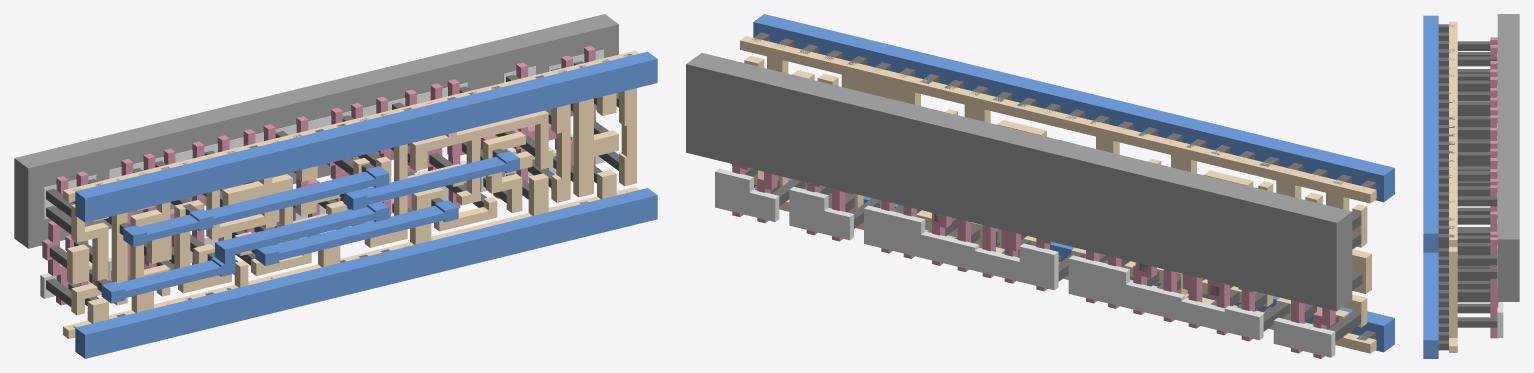
Rendered from sky130_fd_sc_hd__dfbbn_1.gds.gltf.
3 views of the same model, side by side, from view 1: azimuth 30°, elevation 25°; view 2: azimuth 150°, elevation 25°; view 3: azimuth 270°, elevation 25° (orthographic). The views are drawn at different scales.
Visible parts, largest first — view 1: sky130_fd_sc_hd__dfbbn_1_met1, sky130_fd_sc_hd__dfbbn_1_li1, sky130_fd_sc_hd__dfbbn_1_nwell, sky130_fd_sc_hd__dfbbn_1_poly, sky130_fd_sc_hd__dfbbn_1_licon, sky130_fd_sc_hd__dfbbn_1_diff, sky130_fd_sc_hd__dfbbn_1_mcon; view 2: sky130_fd_sc_hd__dfbbn_1_nwell, sky130_fd_sc_hd__dfbbn_1_diff, sky130_fd_sc_hd__dfbbn_1_li1, sky130_fd_sc_hd__dfbbn_1_met1, sky130_fd_sc_hd__dfbbn_1_poly, sky130_fd_sc_hd__dfbbn_1_licon, sky130_fd_sc_hd__dfbbn_1_mcon; view 3: sky130_fd_sc_hd__dfbbn_1_licon, sky130_fd_sc_hd__dfbbn_1_nwell, sky130_fd_sc_hd__dfbbn_1_met1, sky130_fd_sc_hd__dfbbn_1_mcon, sky130_fd_sc_hd__dfbbn_1_li1, sky130_fd_sc_hd__dfbbn_1_poly, sky130_fd_sc_hd__dfbbn_1_diff.
Part boxes in pixels (left/top/right/bottom): sky130_fd_sc_hd__dfbbn_1_met1: left=75, top=51, right=657, bottom=358; sky130_fd_sc_hd__dfbbn_1_li1: left=63, top=50, right=639, bottom=338; sky130_fd_sc_hd__dfbbn_1_nwell: left=14, top=14, right=618, bottom=248; sky130_fd_sc_hd__dfbbn_1_poly: left=42, top=46, right=595, bottom=305; sky130_fd_sc_hd__dfbbn_1_licon: left=46, top=61, right=618, bottom=306; sky130_fd_sc_hd__dfbbn_1_diff: left=40, top=49, right=603, bottom=298; sky130_fd_sc_hd__dfbbn_1_mcon: left=72, top=53, right=631, bottom=328; sky130_fd_sc_hd__dfbbn_1_nwell: left=686, top=53, right=1352, bottom=311; sky130_fd_sc_hd__dfbbn_1_diff: left=715, top=168, right=1335, bottom=357; sky130_fd_sc_hd__dfbbn_1_li1: left=740, top=36, right=1376, bottom=353; sky130_fd_sc_hd__dfbbn_1_met1: left=753, top=14, right=1394, bottom=352; sky130_fd_sc_hd__dfbbn_1_poly: left=732, top=164, right=1335, bottom=358; sky130_fd_sc_hd__dfbbn_1_licon: left=745, top=87, right=1362, bottom=341; sky130_fd_sc_hd__dfbbn_1_mcon: left=752, top=32, right=1376, bottom=340; sky130_fd_sc_hd__dfbbn_1_licon: left=1457, top=41, right=1497, bottom=327; sky130_fd_sc_hd__dfbbn_1_nwell: left=1497, top=14, right=1519, bottom=301; sky130_fd_sc_hd__dfbbn_1_met1: left=1423, top=15, right=1438, bottom=358; sky130_fd_sc_hd__dfbbn_1_mcon: left=1438, top=24, right=1454, bottom=350; sky130_fd_sc_hd__dfbbn_1_li1: left=1449, top=21, right=1457, bottom=352; sky130_fd_sc_hd__dfbbn_1_poly: left=1490, top=37, right=1498, bottom=338; sky130_fd_sc_hd__dfbbn_1_diff: left=1497, top=53, right=1503, bottom=337.
Bounding box in the file's own units: 12.34 × 3.2 × 2.24.
